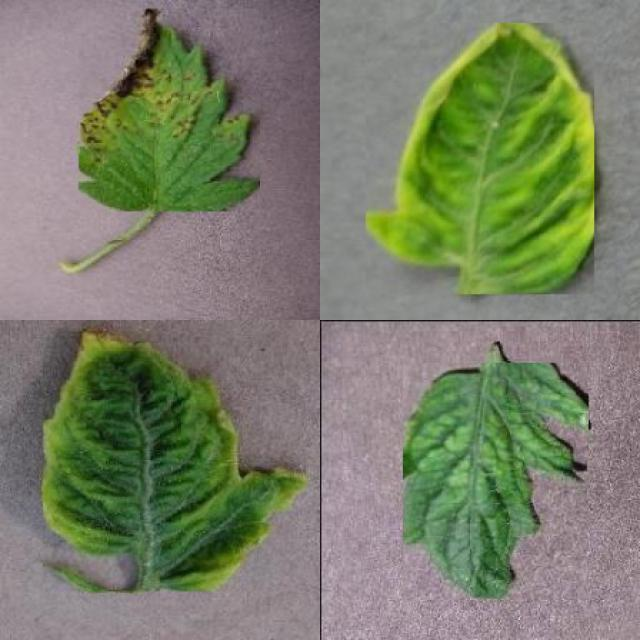Mosaic Virus: (403, 363, 588, 600)
Septoria: (79, 9, 260, 211)
Yellow Leaf Curl Virus: (44, 328, 306, 592), (366, 22, 594, 294)
